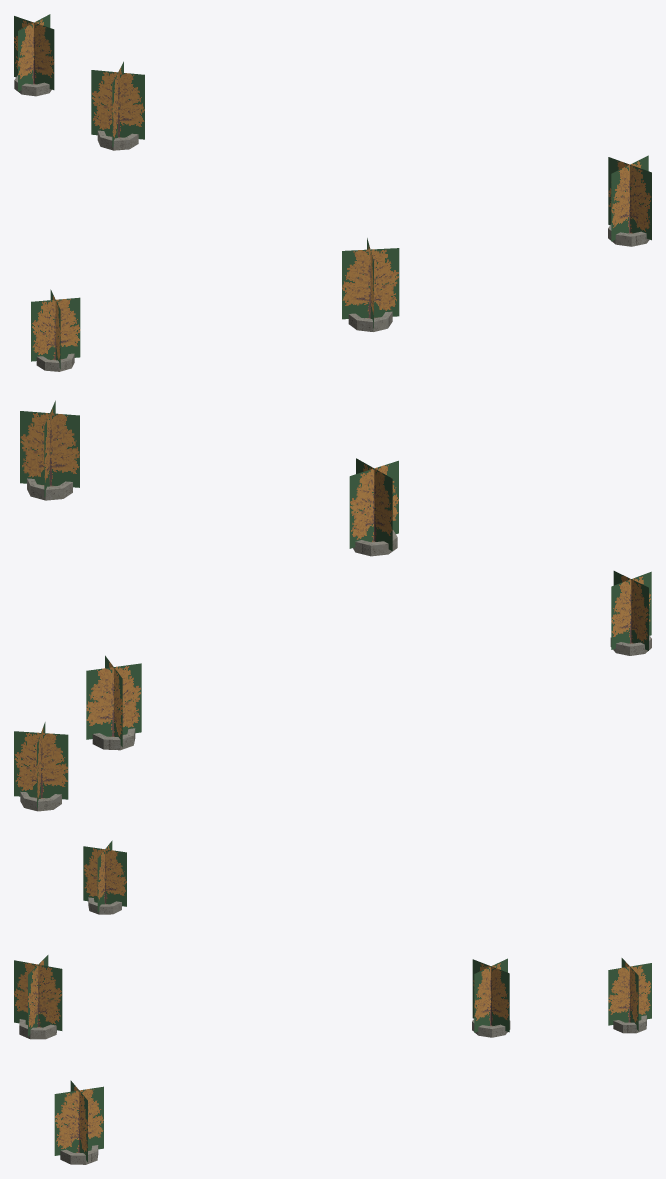
Rendered from procgen-procpain-tree-park-large-xm1z1.obj.
3 renders of one model, top to bottom at view 1: azimuth 30°, elevation 25°; view 2: azimuth 150°, elevation 25°; view 3: azimuth 270°, elevation 25°, orthographic. The views are drawn at different scales.
Size of the model in its own units: 63.27 by 7.34 by 63.47.
